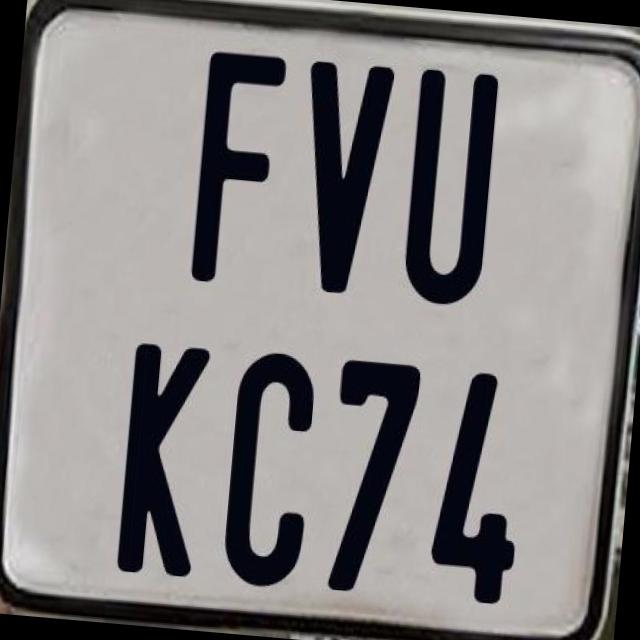4: (423, 368, 533, 608)
7: (317, 355, 423, 597)
C: (220, 349, 322, 588)
F: (186, 50, 286, 288)
K: (116, 339, 214, 582)
U: (396, 68, 494, 316)
V: (286, 60, 396, 298)
